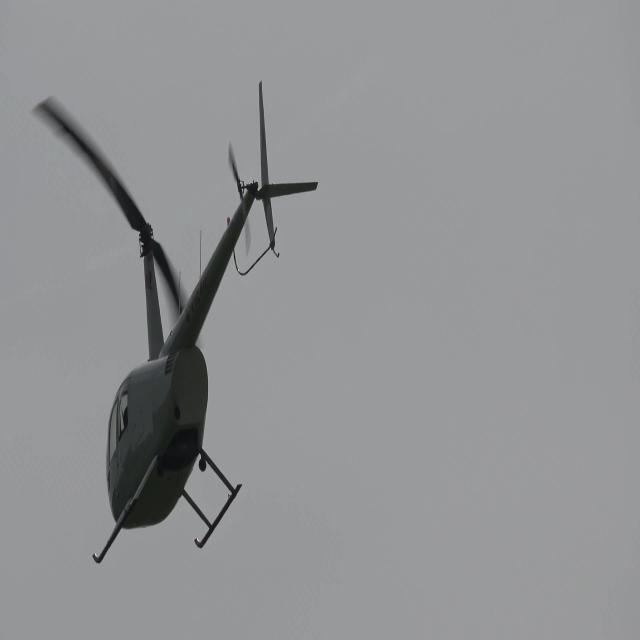CIV_HELO: (90, 76, 318, 567)
